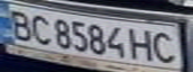4: (106, 24, 130, 58)
5: (66, 19, 90, 53)
8: (84, 21, 109, 56), (48, 16, 72, 50)
B: (3, 7, 36, 40)
C: (148, 29, 181, 64), (24, 12, 54, 45)
H: (127, 26, 160, 62)
